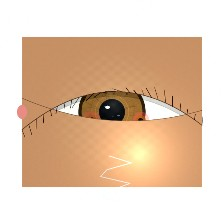foreign_body_visible: (127, 109, 154, 131)
